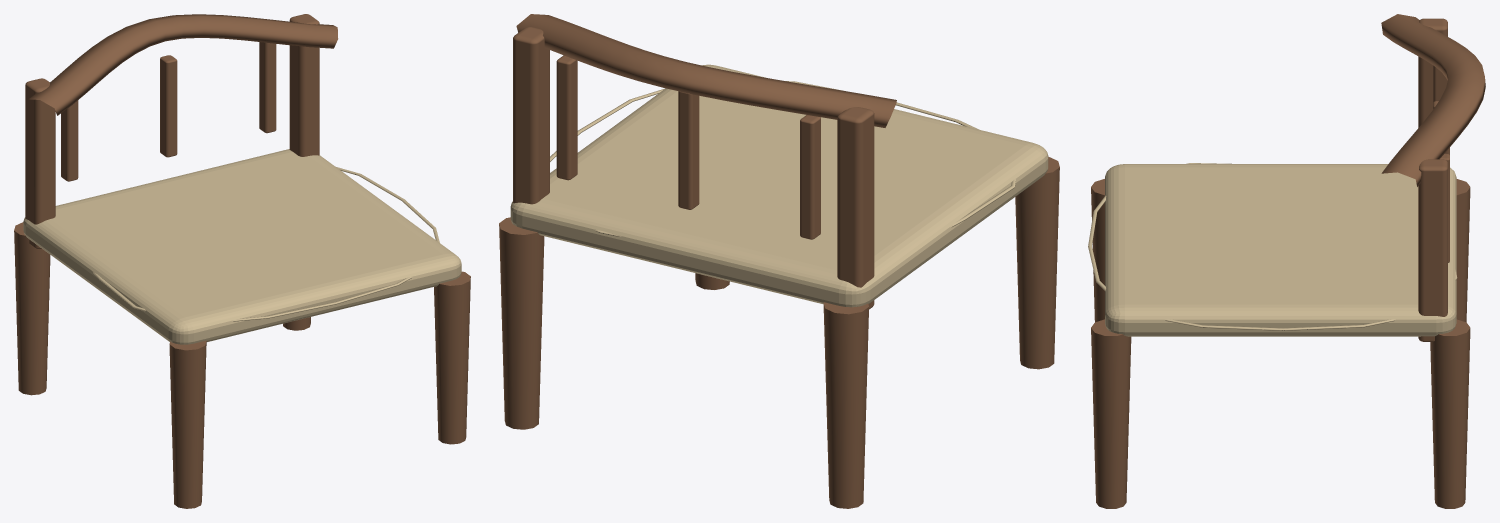
The model's file is chair-6-1.glb.
3 views of the same model, side by side, from view 1: azimuth 30°, elevation 25°; view 2: azimuth 150°, elevation 25°; view 3: azimuth 270°, elevation 25° (orthographic). The views are drawn at different scales.
Visible parts, largest first — view 1: tailored-cushion, part; view 2: tailored-cushion, part; view 3: tailored-cushion, part.
Boxes of the visible parts, x1,y1,x2,y2 form: tailored-cushion: (23,149,461,344); part: (14,14,470,508); tailored-cushion: (510,64,1048,307); part: (499,14,1059,508); tailored-cushion: (1088,163,1457,336); part: (1091,14,1485,508).
Bounding box in the file's own units: 1 × 1 × 1.
